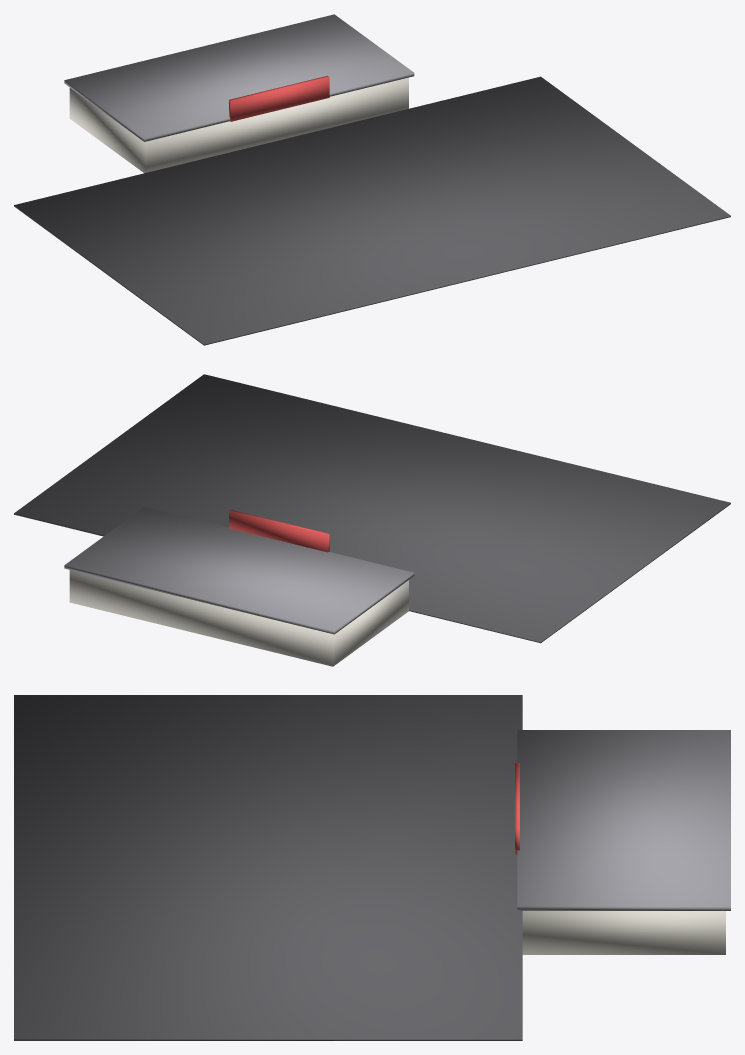
The model's file is hardware_store.glb.
3 renders of one model, top to bottom at view 1: azimuth 30°, elevation 25°; view 2: azimuth 150°, elevation 25°; view 3: azimuth 270°, elevation 25°, orthographic. The views are drawn at different scales.
Visible parts, largest first — view 1: Lot, Roof, Building, Sign; view 2: Lot, Roof, Building, Sign; view 3: Lot, Roof, Building.
Part boxes in pixels (x1,y1,x2,y2): Lot: (14,76,730,345); Roof: (64,14,414,141); Building: (69,77,408,173); Sign: (229,75,329,121); Lot: (14,374,730,643); Roof: (64,507,414,634); Building: (69,570,408,666); Sign: (229,510,329,552); Lot: (14,695,522,1040); Roof: (517,730,730,910); Building: (522,911,725,954).
Size of the model in its own units: 160 by 16 by 141.
